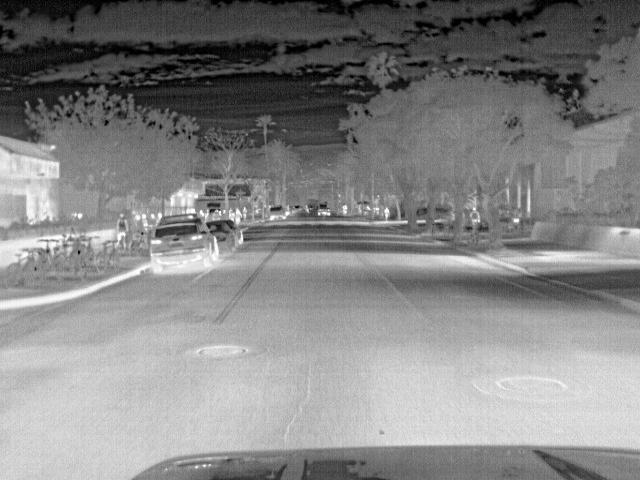car: (150, 214, 220, 273), (206, 221, 236, 256), (228, 220, 245, 248), (315, 202, 333, 220), (267, 206, 285, 220)
person: (114, 212, 131, 247), (469, 206, 482, 236), (383, 206, 394, 220)
